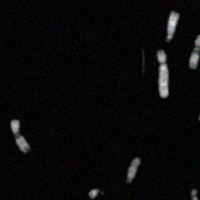chromosome: (10, 119, 29, 153), (157, 50, 169, 97), (188, 35, 200, 69), (165, 10, 178, 41), (127, 157, 139, 183), (89, 188, 103, 198), (191, 190, 199, 200), (199, 66, 200, 122)
